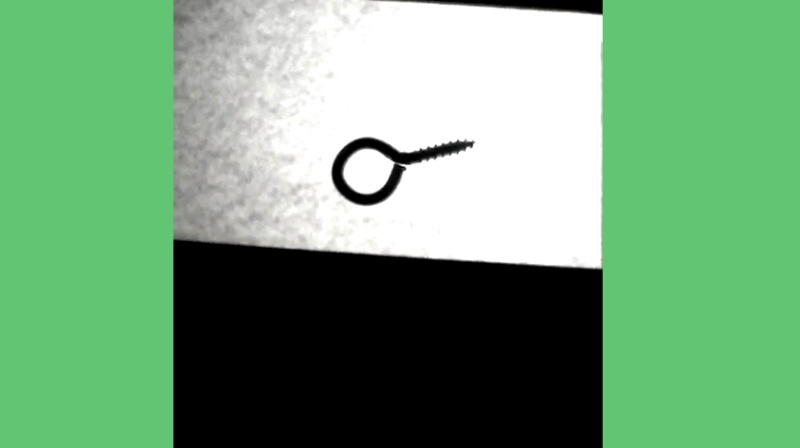O001: (331, 132, 479, 210)
